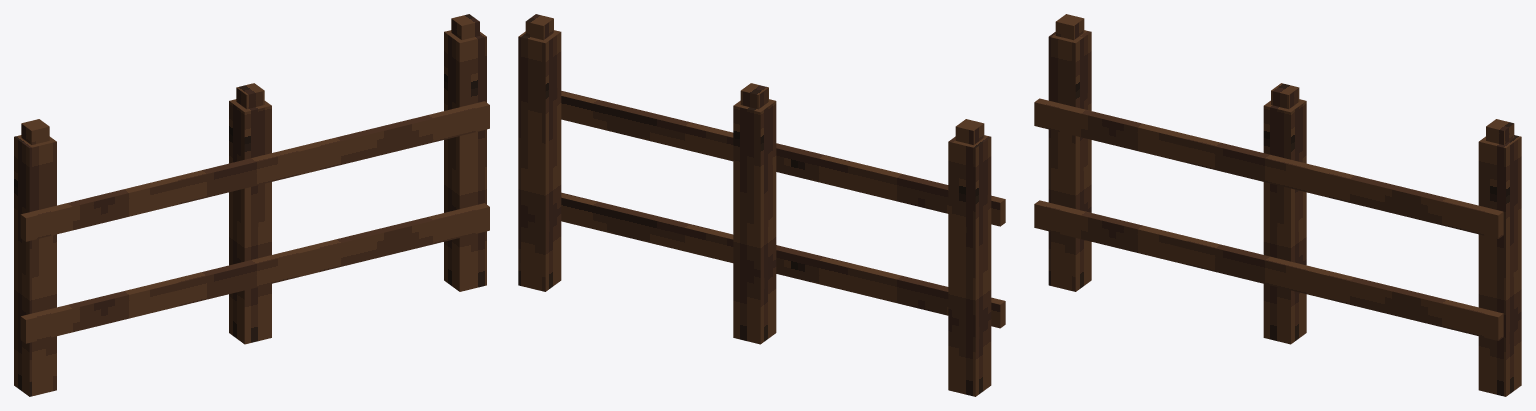
Rendered from MV_Fence.glb.
3 views of the same model, side by side, from view 1: azimuth 30°, elevation 25°; view 2: azimuth 150°, elevation 25°; view 3: azimuth 330°, elevation 25° (orthographic).
Visible parts, largest first — view 1: MV_Fence_Wood_2m_A.MV_Fence; view 2: MV_Fence_Wood_2m_A.MV_Fence; view 3: MV_Fence_Wood_2m_A.MV_Fence.
Part boxes in pixels (<box>): MV_Fence_Wood_2m_A.MV_Fence: <box>14,14,489,396</box>; MV_Fence_Wood_2m_A.MV_Fence: <box>518,14,1005,396</box>; MV_Fence_Wood_2m_A.MV_Fence: <box>1034,14,1521,396</box>.
Size of the model in its own units: 2.06 by 1.11 by 0.16.
1 material, 1 textured.
